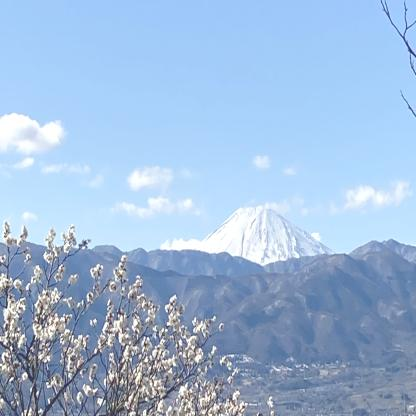Ume: (0, 218, 281, 416)
